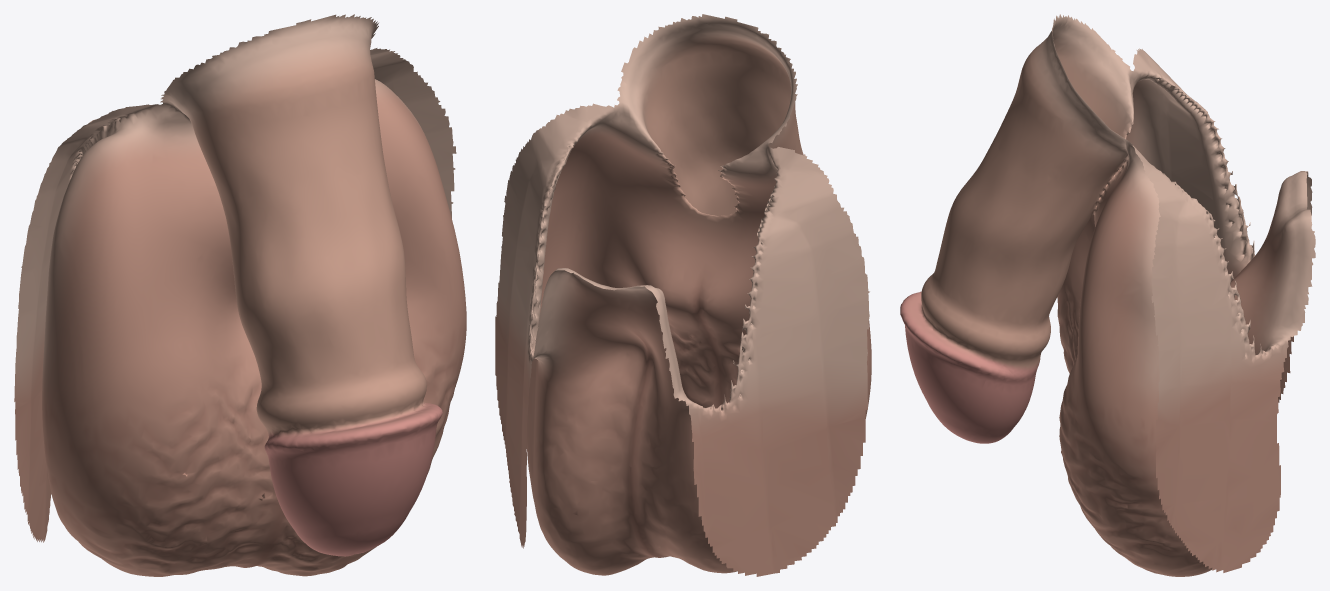
The model's file is male-integumentary.glb.
3 views of the same model, side by side, from view 1: azimuth 30°, elevation 25°; view 2: azimuth 150°, elevation 25°; view 3: azimuth 270°, elevation 25° (orthographic). The views are drawn at different scales.
Visible parts, largest first — view 1: Skin_Genitals; view 2: Skin_Genitals; view 3: Skin_Genitals.
Boxes of the visible parts, x1=… form: Skin_Genitals: x1=14, y1=14, x2=466, y2=576; Skin_Genitals: x1=495, y1=14, x2=871, y2=576; Skin_Genitals: x1=900, y1=14, x2=1315, y2=576.
Size of the model in its own units: 0.0954 by 0.1268 by 0.0932.
